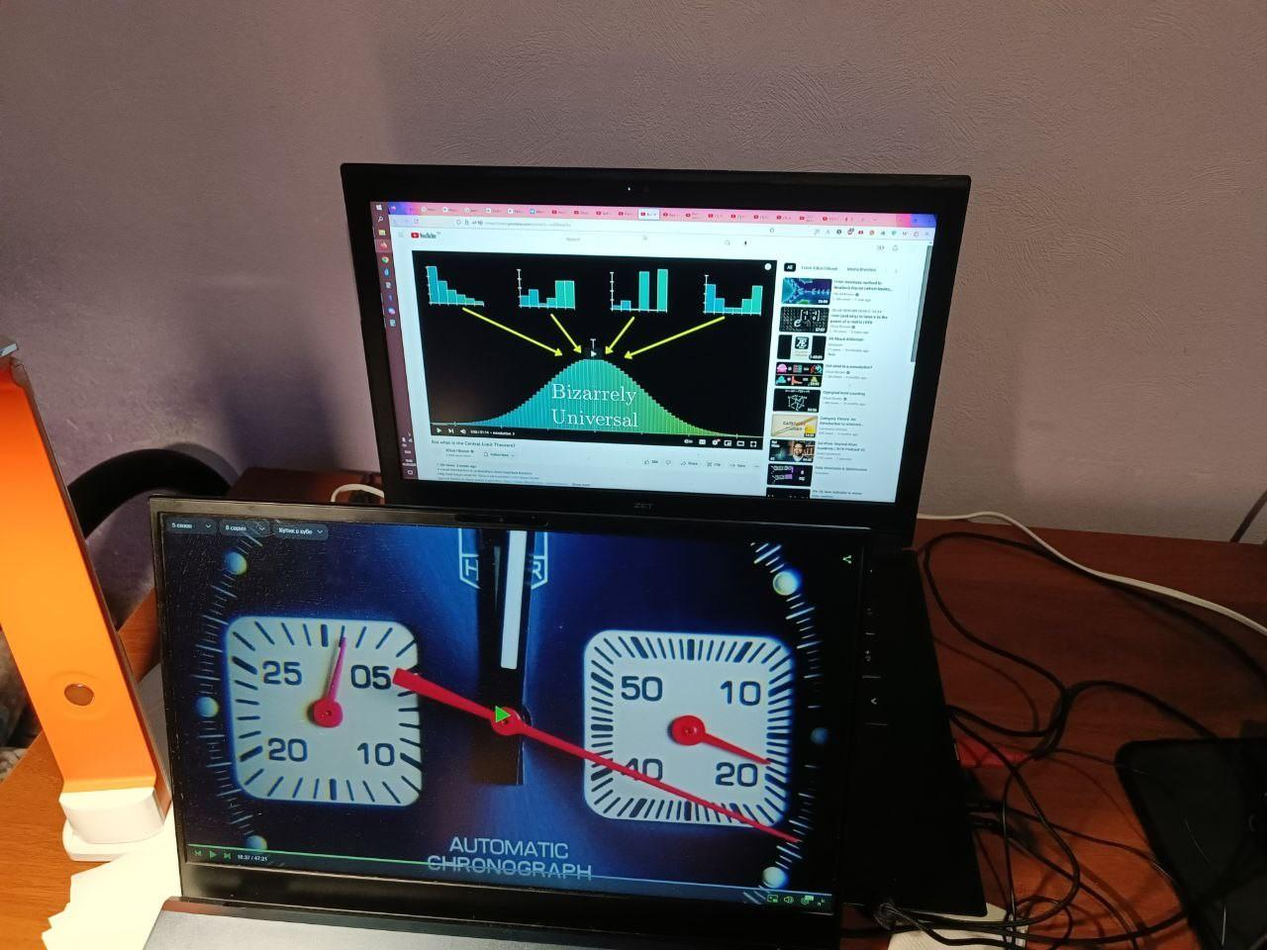monitor: (145, 482, 912, 950), (333, 157, 975, 579)
